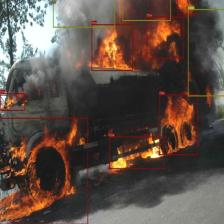fire: (0, 117, 88, 224), (159, 94, 198, 155), (91, 24, 133, 71), (110, 136, 164, 169), (146, 16, 184, 59), (0, 93, 25, 111), (177, 0, 196, 15)
smoke: (187, 9, 224, 96), (52, 0, 114, 27), (122, 0, 170, 21)
